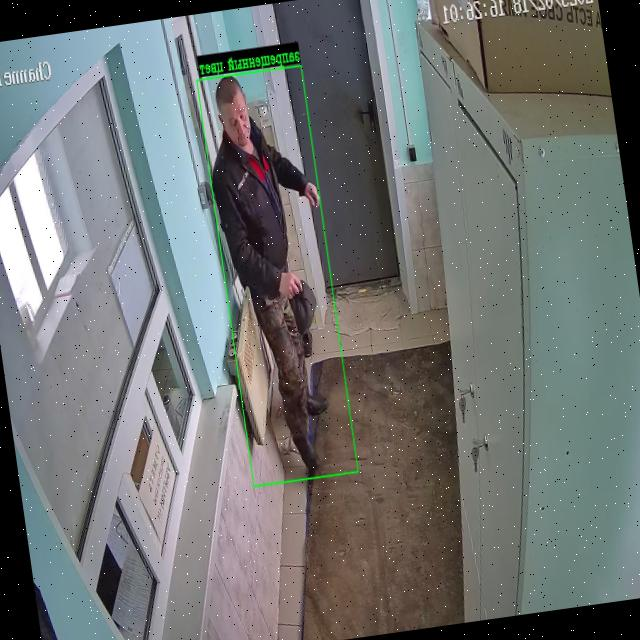Person: (213, 77, 328, 414)
